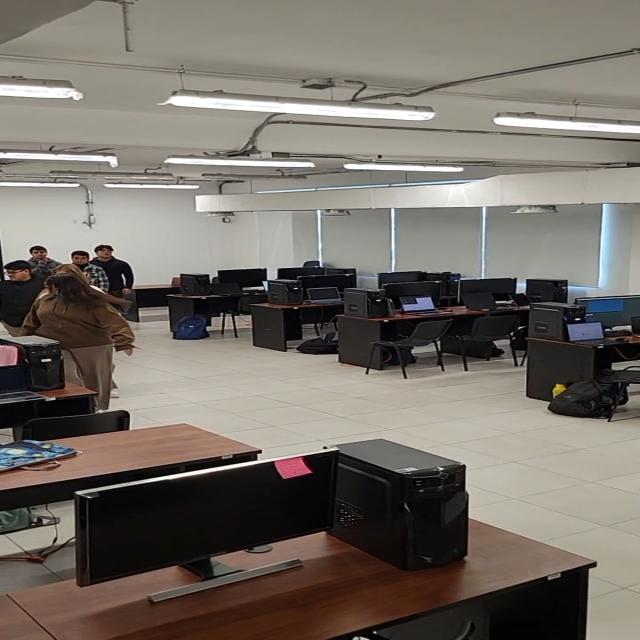Persona: (22, 273, 138, 414), (1, 260, 50, 340), (93, 244, 137, 298), (50, 264, 109, 301), (65, 249, 113, 294), (25, 246, 63, 282)
